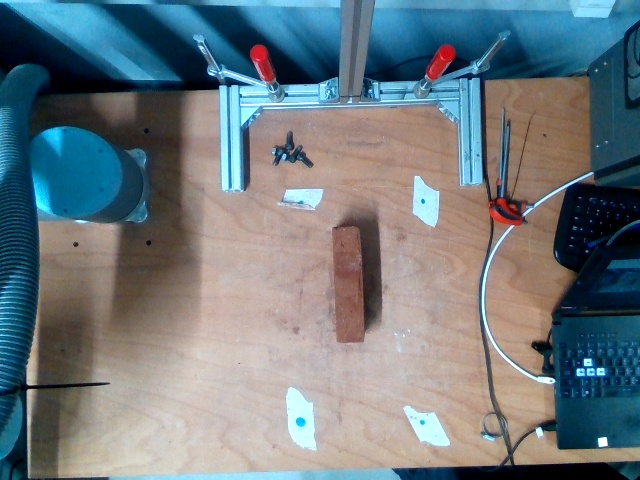brick-side: (330, 226, 367, 345)
